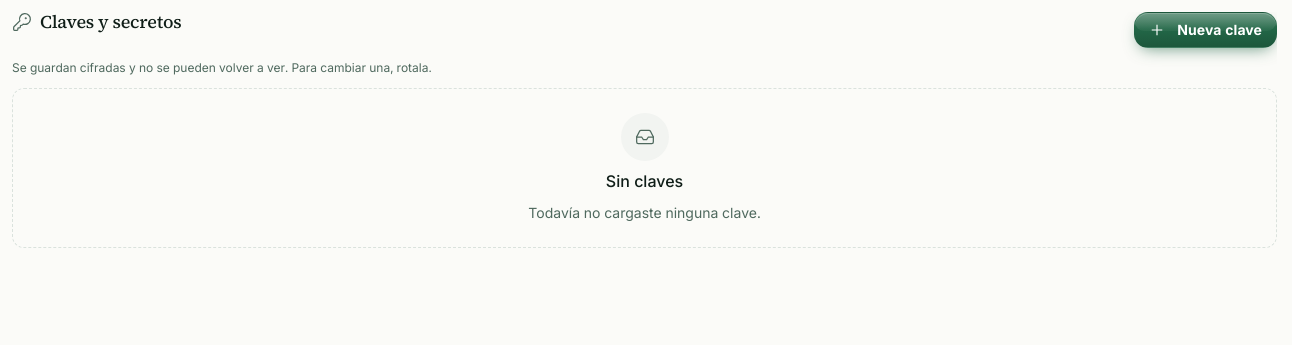
Scenario: SecretsSection: crear › guarda a través de step-up, con el destino elegido, y limpia el formulario
Click the button "Nueva clave" at (1206,30), box [1134,12,1277,48]
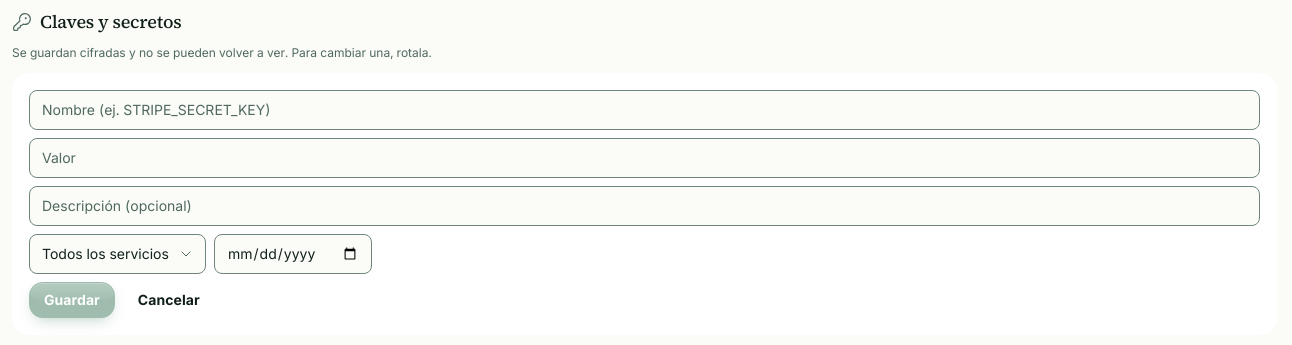
Type "MI_CLAVE" into the field with placeholder "Nombre (ej. STRIPE_SECRET_KEY)" at (644,110), box [29,90,1260,130]
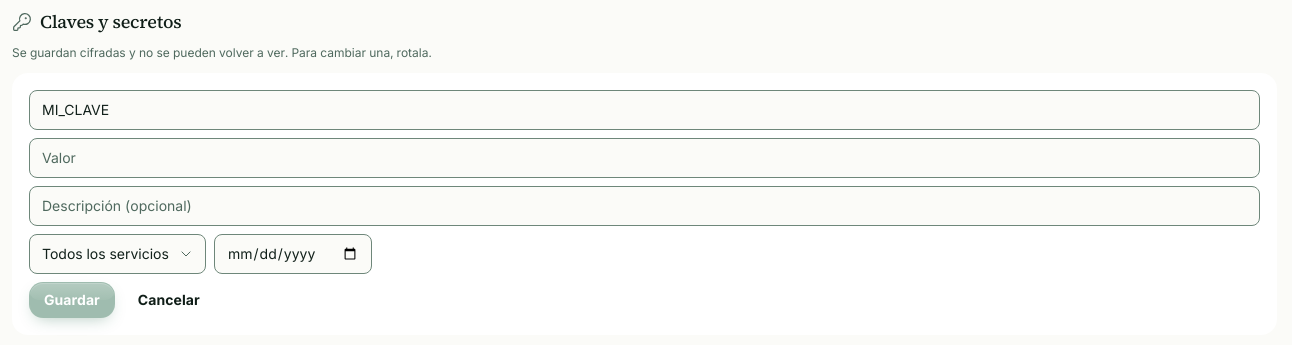
Type "sk_live_super_secreto" into the password field with placeholder "Valor" at (644,158), box [29,138,1260,178]
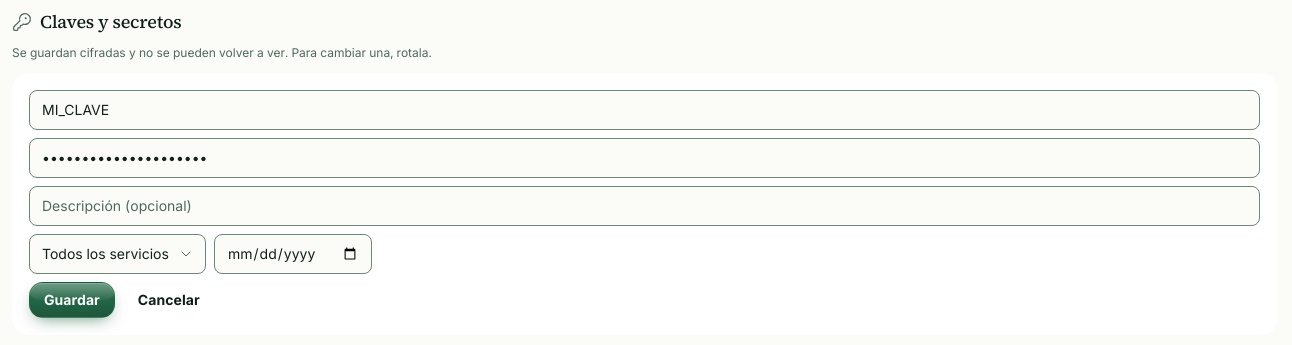
Select "Pagos" in the dropdown named "Servicio de destino" at (118,254), box [29,234,206,274]
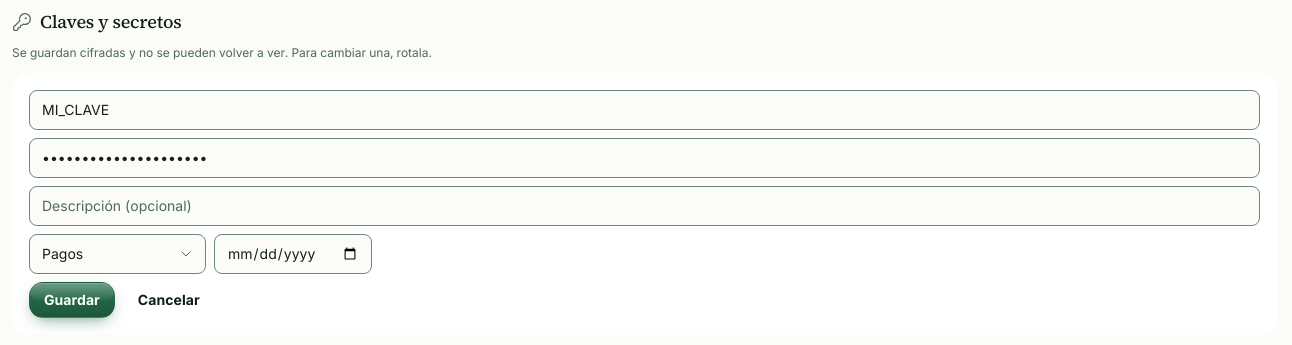
Click the button "Guardar" at (72,300), box [29,282,115,318]
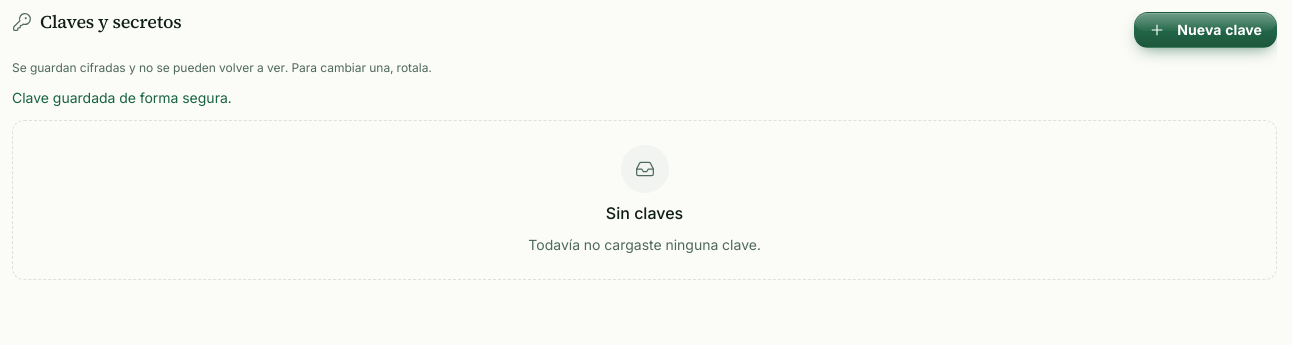
Expected: the message shows "guardada", [12,89,232,106]
Expected: the password field with placeholder "Valor" is gone
